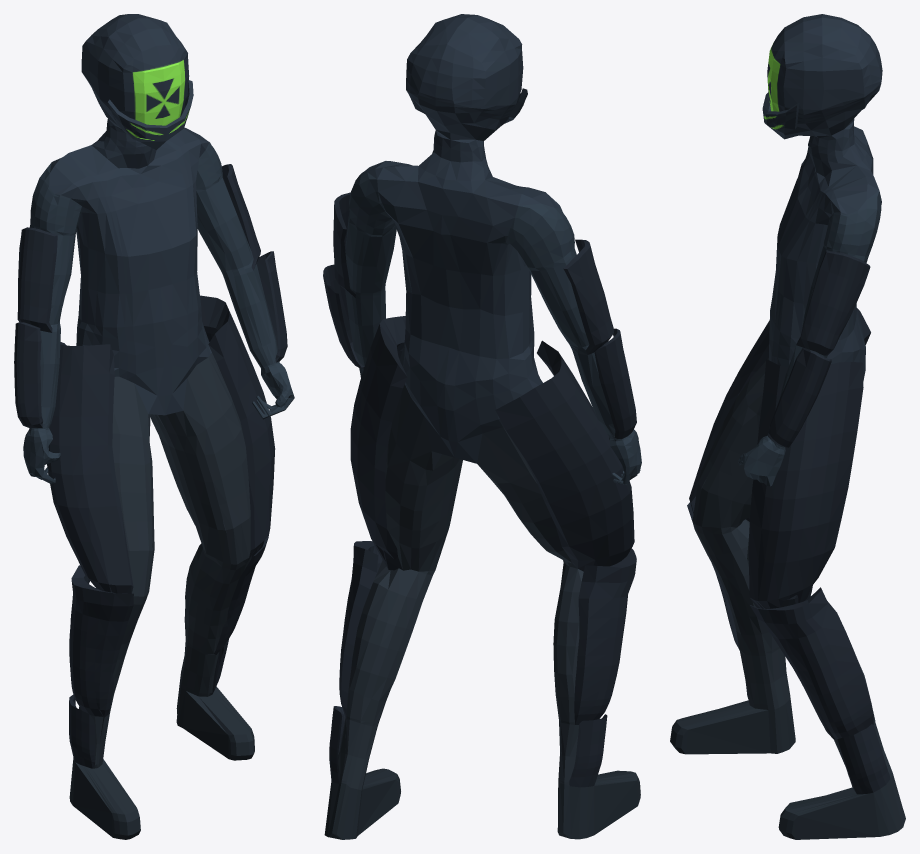
The model's file is Bastion_Stun_Recover_000014.obj.
3 views of the same model, side by side, from view 1: azimuth 30°, elevation 25°; view 2: azimuth 150°, elevation 25°; view 3: azimuth 270°, elevation 25° (orthographic). The views are drawn at different scales.
Visible parts, largest first — view 1: Cube.002; view 2: Cube.002; view 3: Cube.002.
Part boxes in pixels (x1,y1,x2,y2): Cube.002: (14, 14, 294, 839); Cube.002: (323, 14, 641, 839); Cube.002: (670, 14, 905, 839).
Size of the model in its own units: 1.43 by 3.78 by 1.05.
